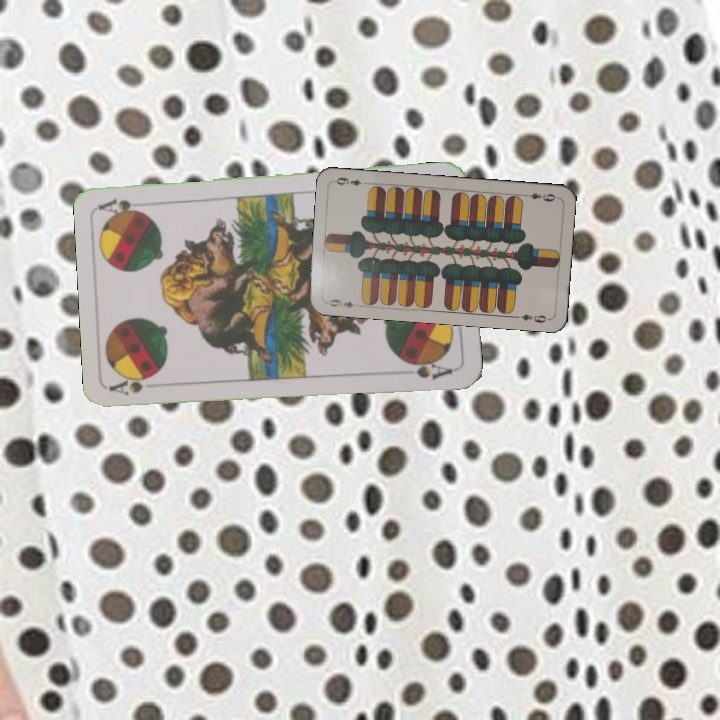E9: (325, 295, 363, 311), (519, 189, 558, 204)
SA: (108, 370, 160, 399)
